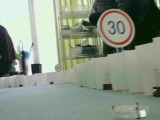speed_30: (95, 8, 136, 48)
